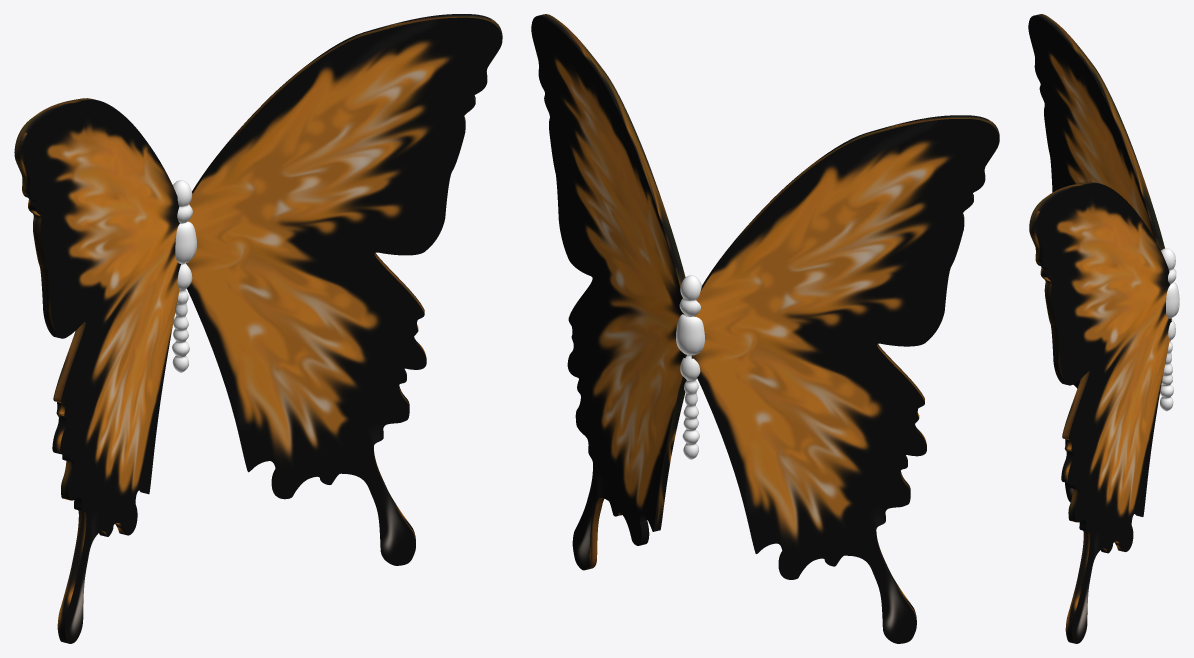
Rendered from Autumn_Leaf.gltf.
3 views of the same model, side by side, from view 1: azimuth 30°, elevation 25°; view 2: azimuth 150°, elevation 25°; view 3: azimuth 270°, elevation 25° (orthographic). The views are drawn at different scales.
Parts seen in each view (by area): view 1: butterfly wing right, butterfly wing left, butterfly body; view 2: butterfly wing left, butterfly wing right, butterfly body; view 3: butterfly wing right, butterfly wing left, butterfly body.
Boxes of the visible parts, box(x1,y1,x2,y2) form: butterfly wing right: box(186, 14, 502, 565); butterfly wing left: box(14, 98, 180, 643); butterfly body: box(172, 180, 196, 372); butterfly wing left: box(691, 115, 999, 643); butterfly wing right: box(531, 14, 686, 570); butterfly body: box(676, 275, 704, 459); butterfly wing right: box(1029, 181, 1171, 643); butterfly wing left: box(1028, 14, 1164, 502); butterfly body: box(1160, 248, 1179, 411).
Size of the model in its own units: 2.32 by 2.5 by 0.7357.
2 materials, 1 textured.
